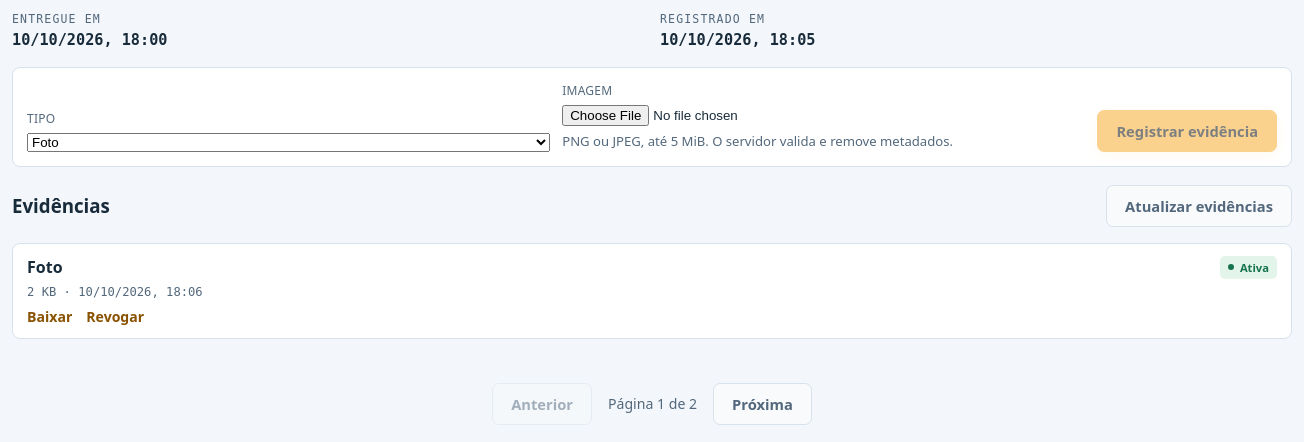
Test: OC81 integridade de consulta e reenvio › pagina além das primeiras vinte evidências persistidas
The width and height of the screenshot is (1304, 442).
Check: the text "Página 1 de 2" is shown, box [608,394,697,413]
What coordinates should you click on to do the following:
click the button "Próxima"
I would click on:
 (762, 404)
Its box is [713,383,812,425].
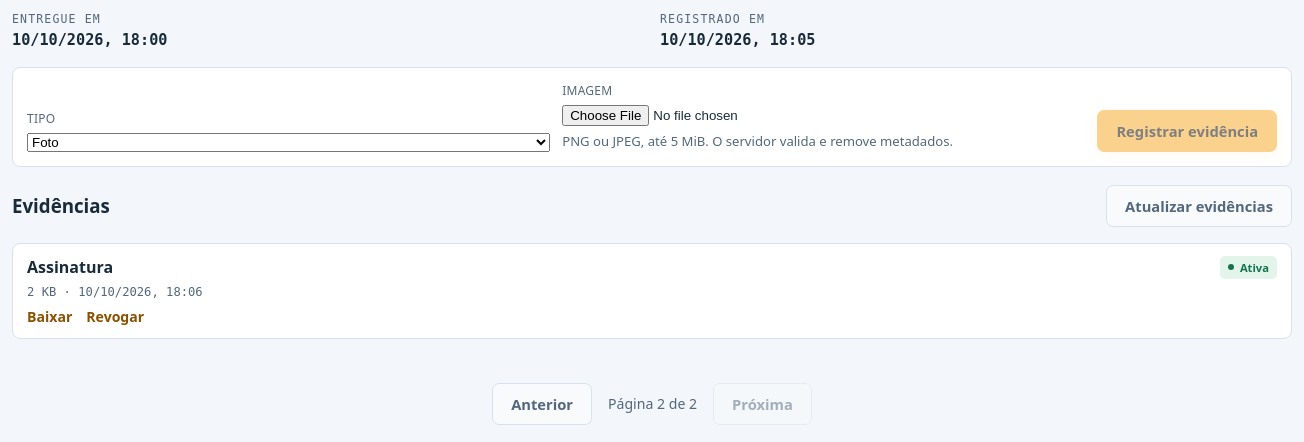
Check: the text "Página 2 de 2" is shown, box [608,394,697,413]
